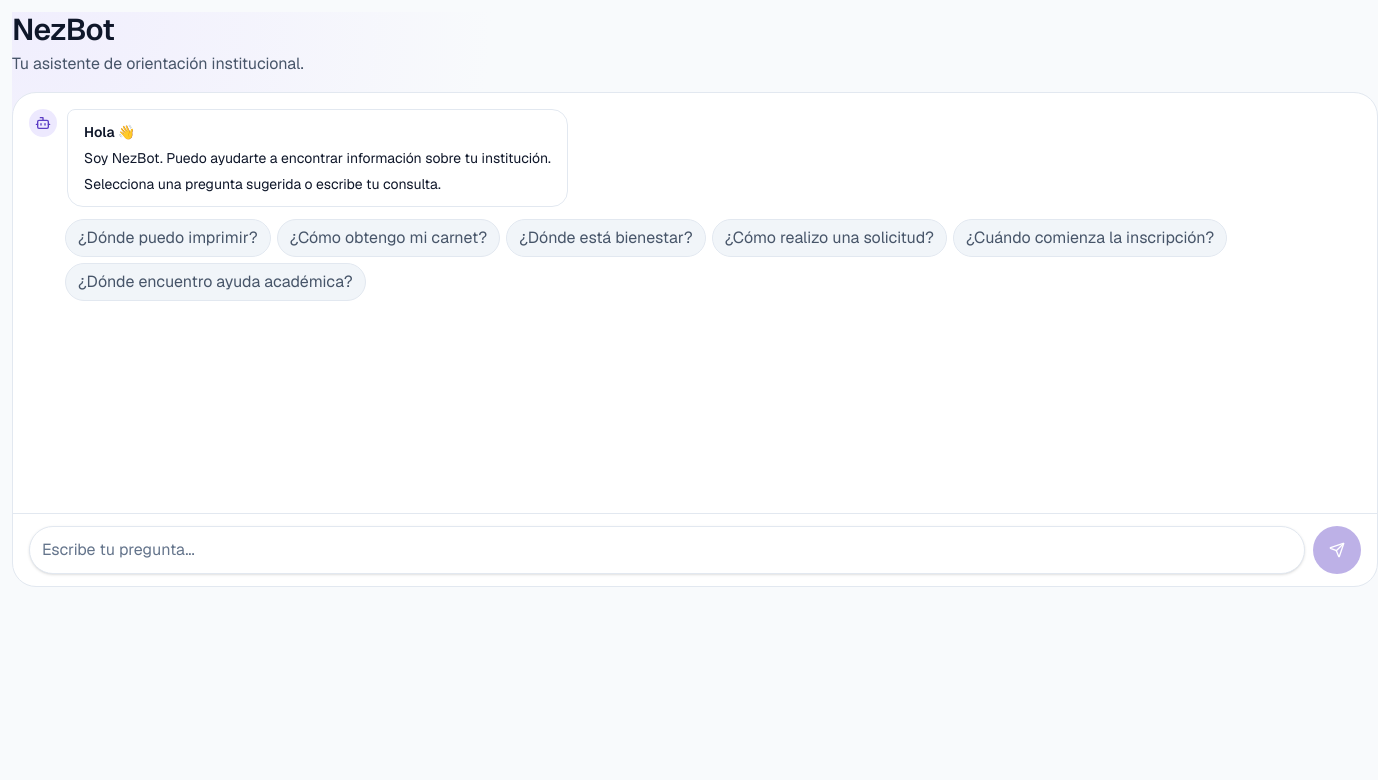
Scenario: NezbotClientPage — conversación › muestra respuesta del bot con lista y acción para 'imprimir'
The width and height of the screenshot is (1378, 780).
In the field labelled "Escribe tu pregunta...": (667, 550) [29,526,1305,574], type "imprimir"
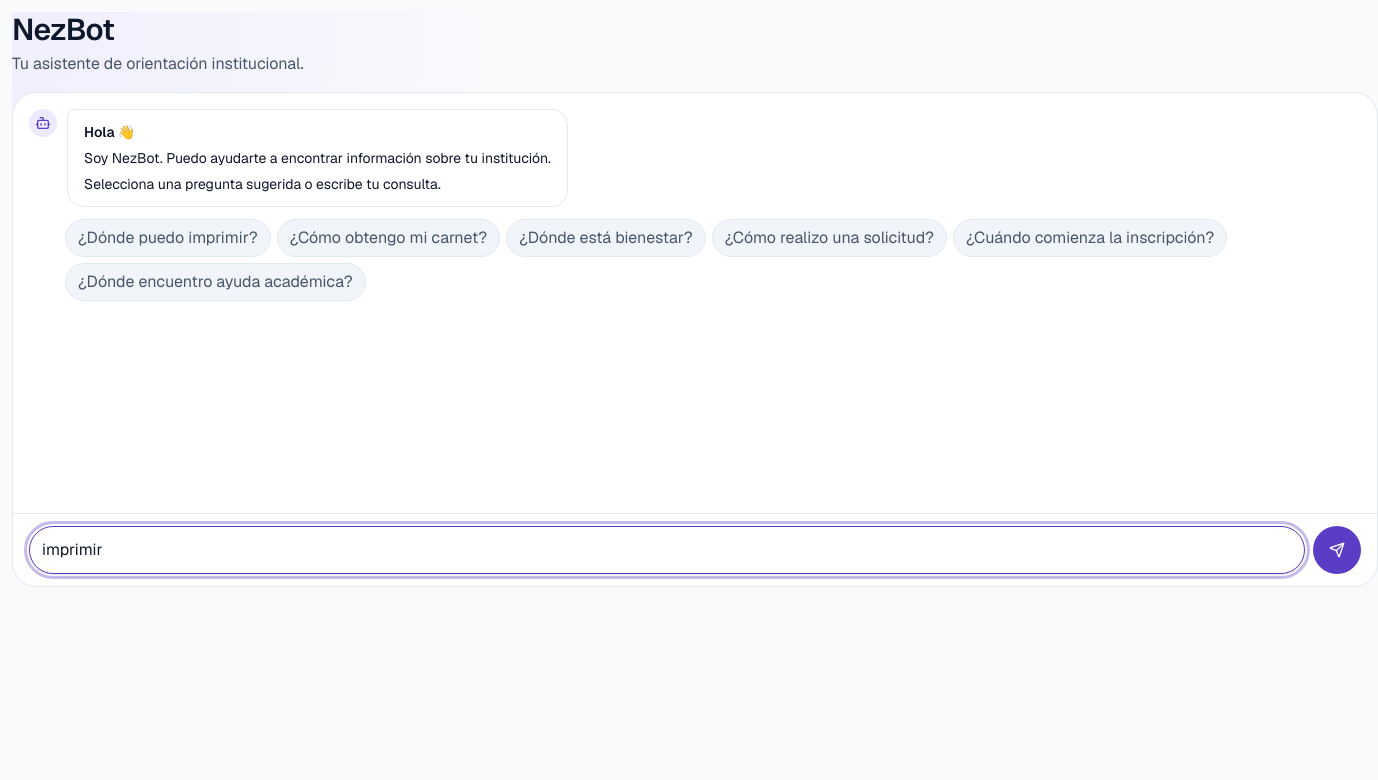
Press Enter
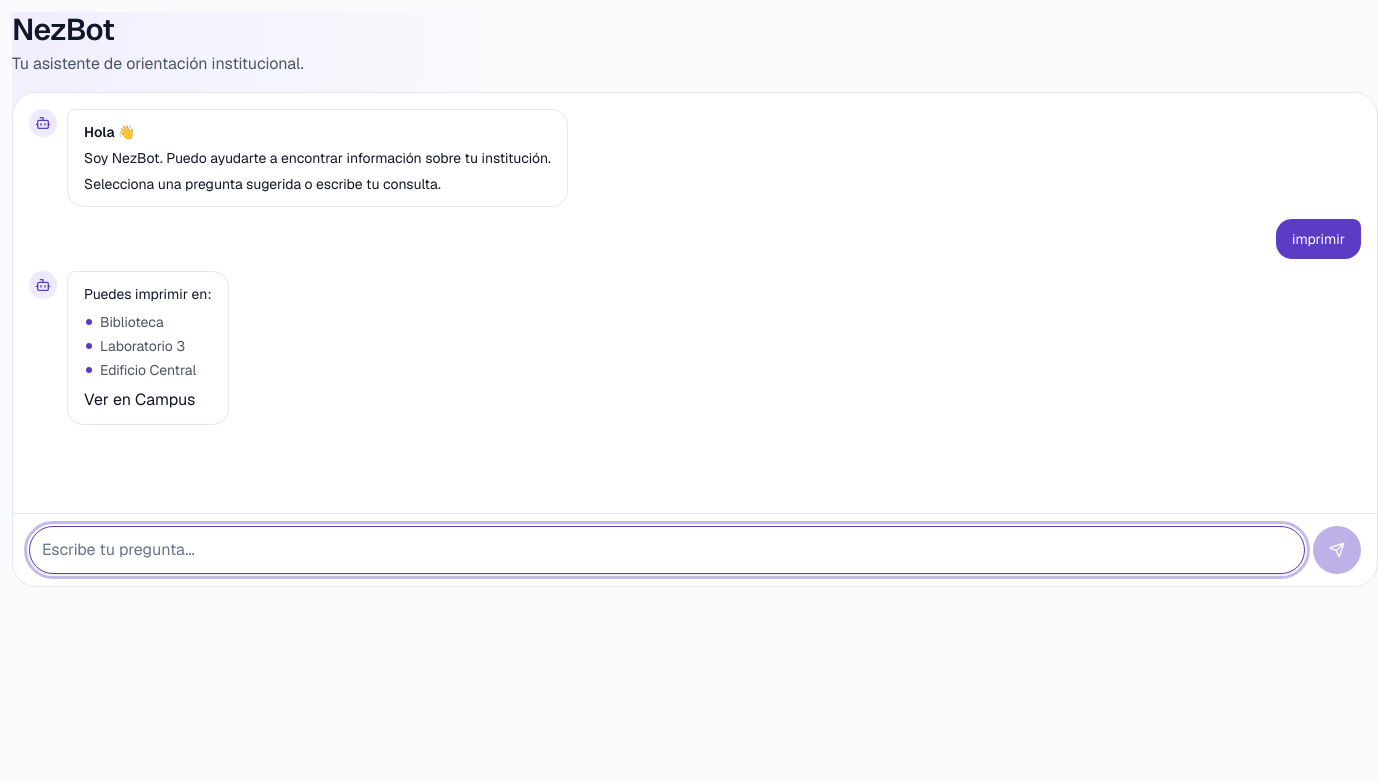
Check: the text "Puedes imprimir en:" is shown, box [84,284,212,304]
Check: the list item "Biblioteca" is shown, box [86,313,164,331]
Check: the link "Ver en Campus" is shown, box [84,388,212,412]
